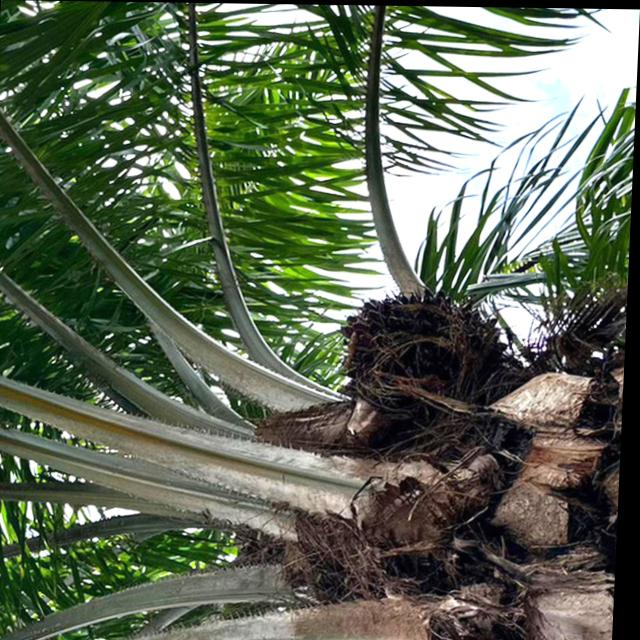ripe: (329, 282, 514, 436)
